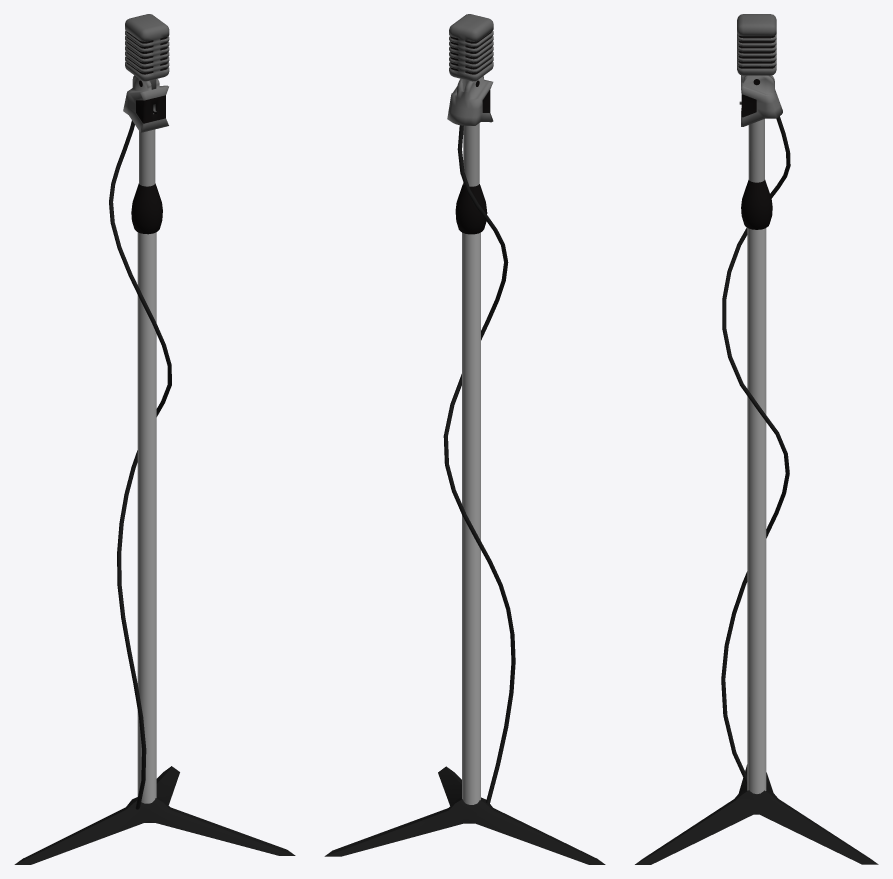
Rendered from Microphone.fbx.
The picture shows the model from 3 angles, left to right: view 1: azimuth 30°, elevation 25°; view 2: azimuth 150°, elevation 25°; view 3: azimuth 270°, elevation 25°; orthographic projection.
Parts seen in each view (by area): view 1: Cylinder.106; view 2: Cylinder.106; view 3: Cylinder.106.
Part boxes in pixels (x1,y1,x2,y2): Cylinder.106: (14,14,295,864); Cylinder.106: (324,14,605,864); Cylinder.106: (635,14,878,864).
Size of the model in its own units: 54.85 by 193 by 53.02.
Materials: 1 (1 with a texture image).
